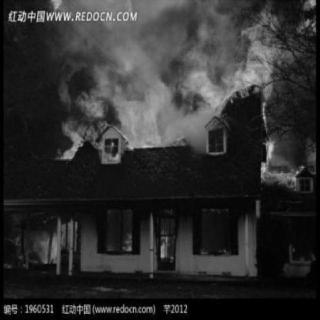Fire: (53, 18, 306, 190), (102, 201, 240, 263)
